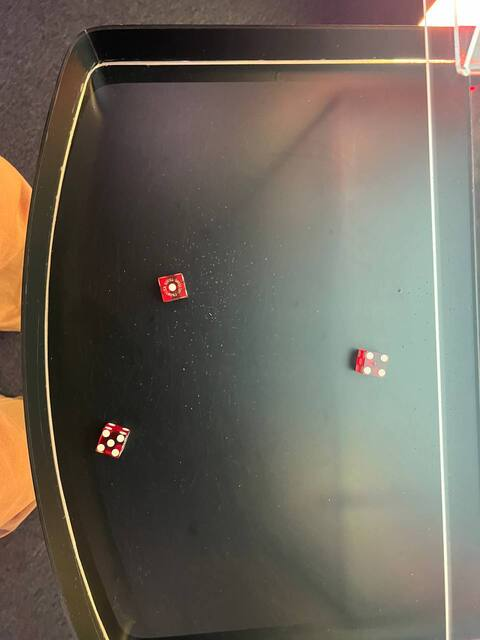five: (91, 427, 130, 460)
four: (359, 347, 392, 381)
one: (157, 270, 189, 305)
